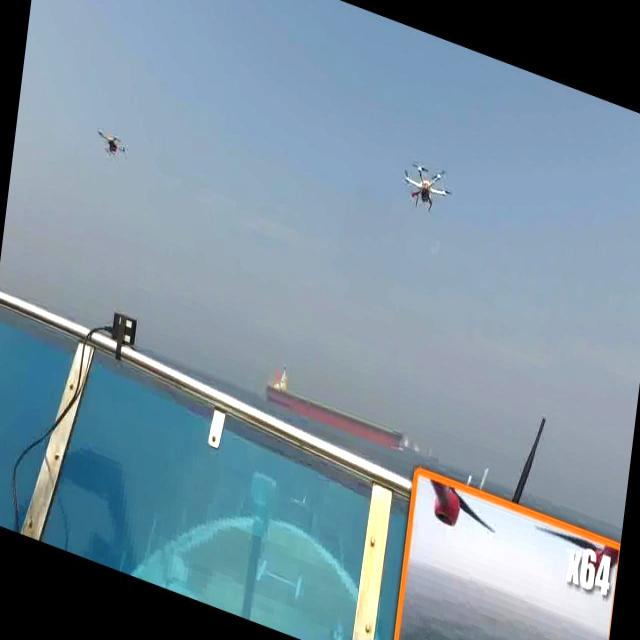drone: (388, 140, 458, 233), (90, 113, 136, 174)
